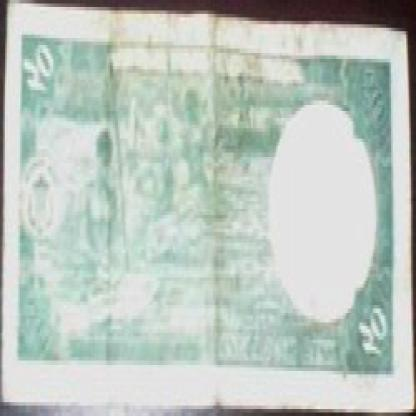Twenty: (22, 42, 78, 121), (354, 302, 393, 367)
